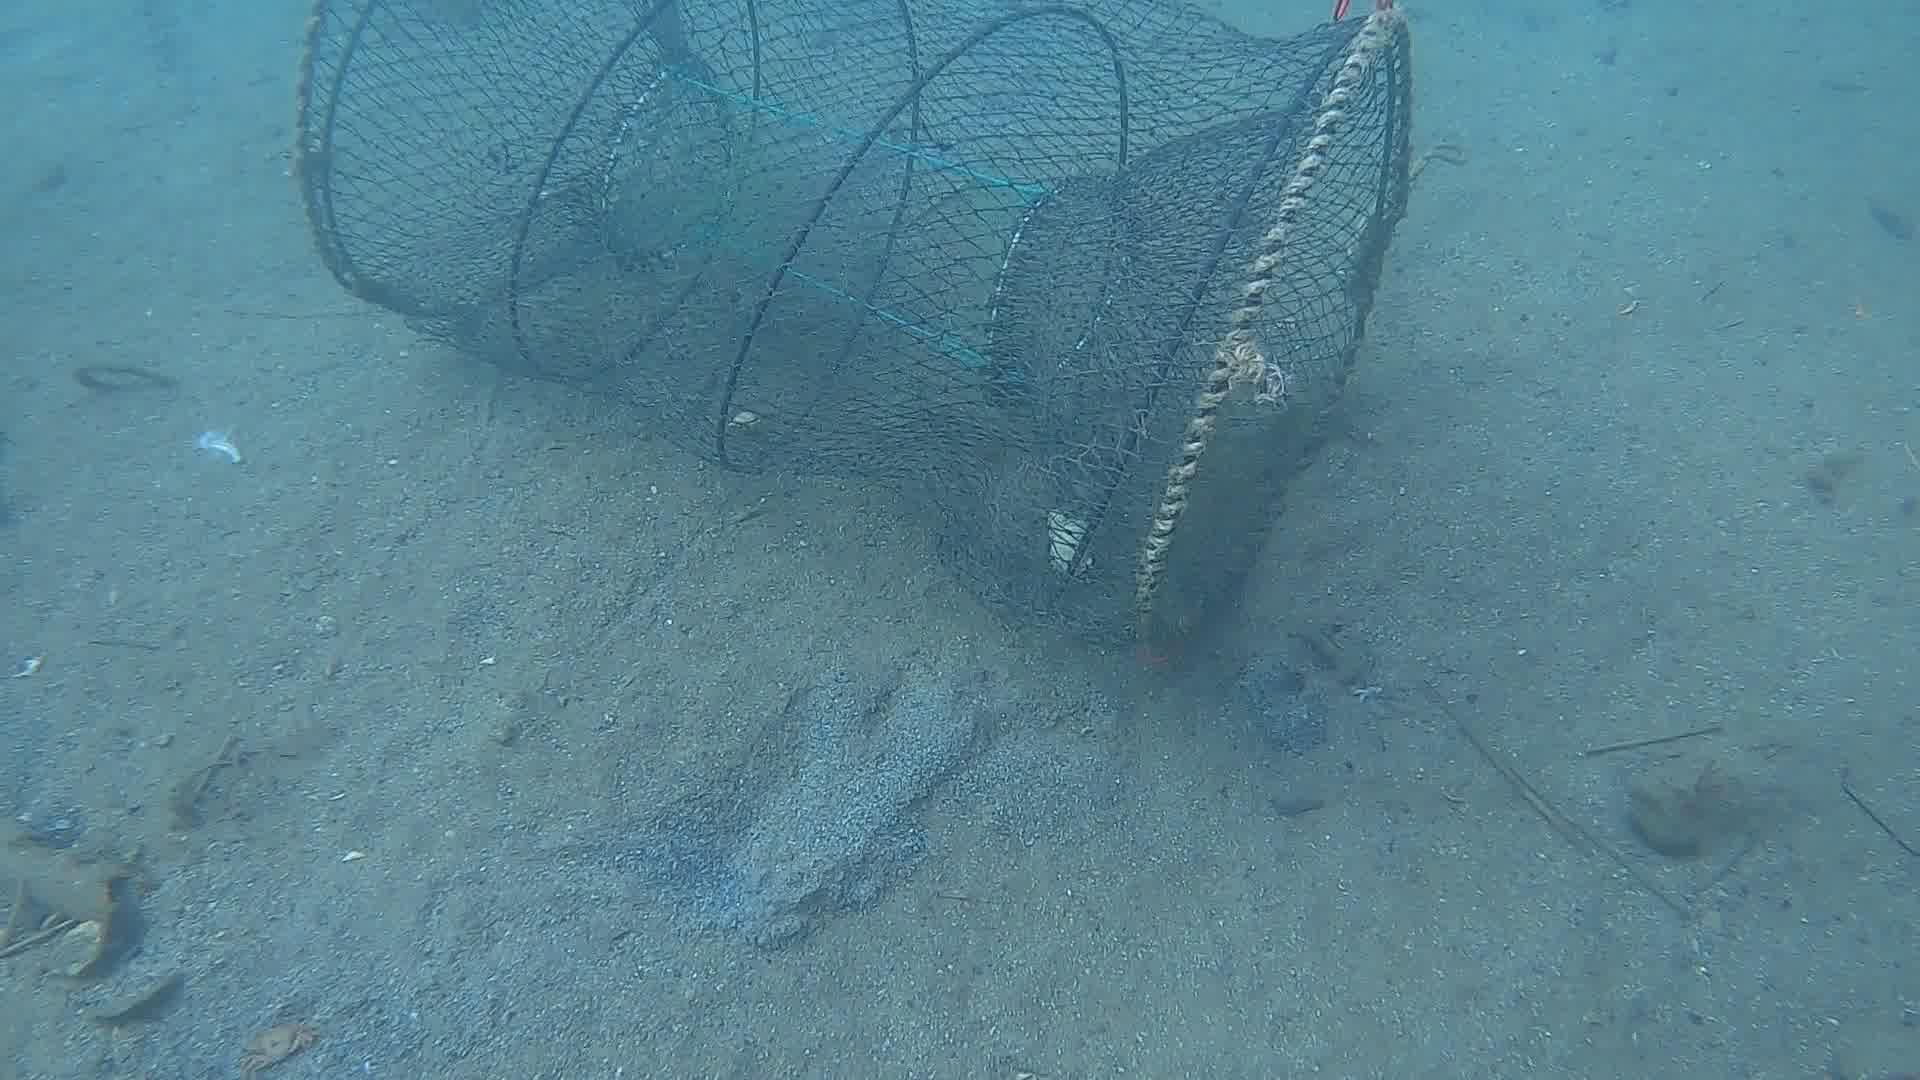spring fish trap: (291, 0, 1408, 647)
